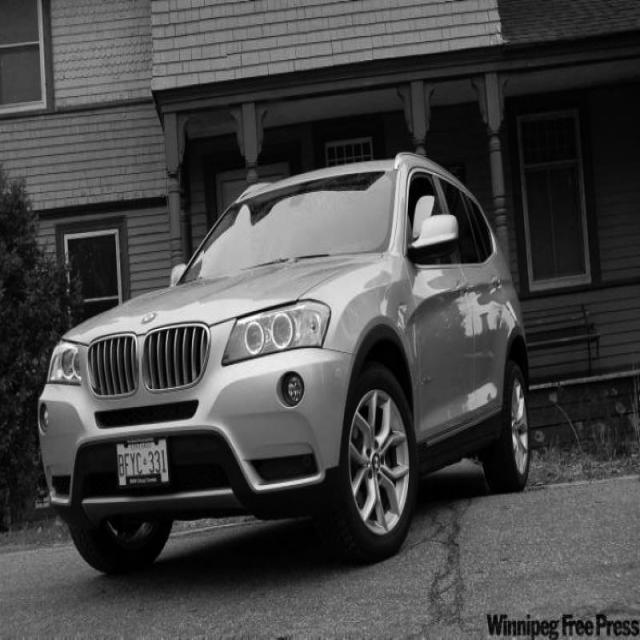car: (36, 150, 531, 574)
plat_license: (116, 437, 170, 489)
